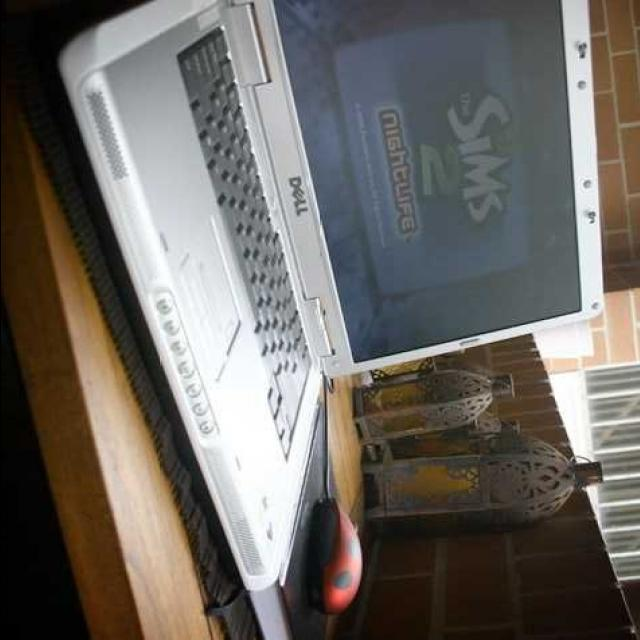laptop: (56, 0, 584, 594)
